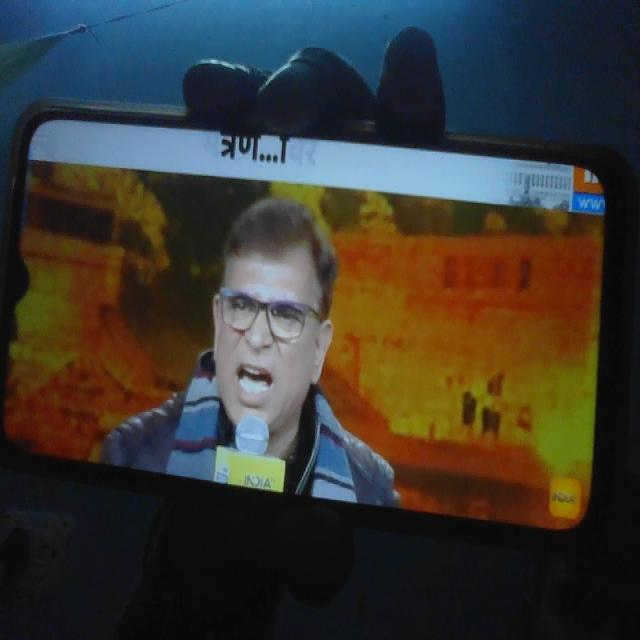fake: (198, 182, 338, 446)
